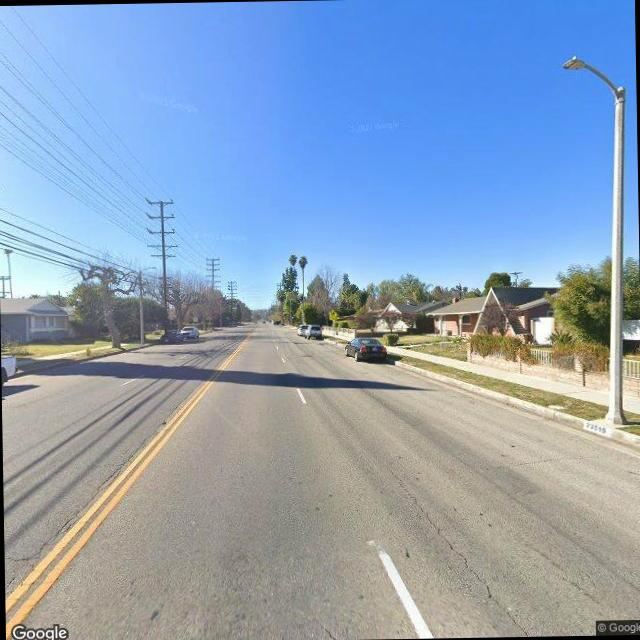crack: (382, 456, 528, 634), (23, 404, 185, 560), (474, 448, 624, 473)
